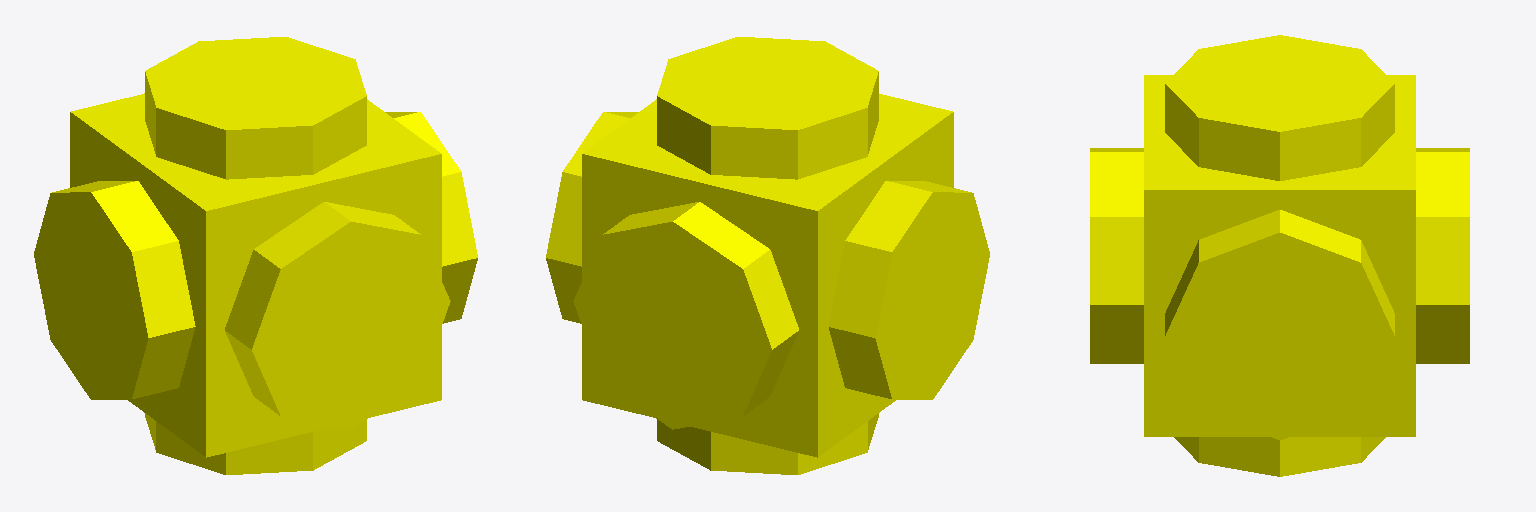
The picture shows the model from 3 angles: view 1: azimuth 30°, elevation 25°; view 2: azimuth 150°, elevation 25°; view 3: azimuth 270°, elevation 25°; orthographic projection.
Visible parts, largest first — view 1: Cube; view 2: Cube; view 3: Cube.
Boxes of the visible parts, x1,y1,x2,y2 form: Cube: [34, 37, 477, 474]; Cube: [546, 37, 989, 474]; Cube: [1090, 35, 1469, 476].
Bounding box in the file's own units: 2.8 × 2.8 × 2.8.
Materials: 1 (1 with a texture image).